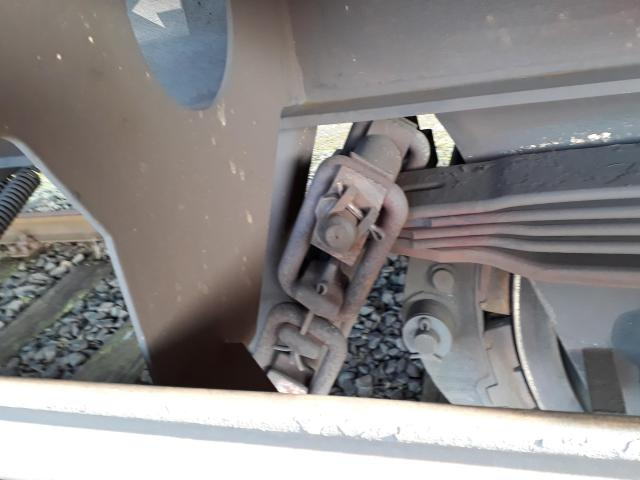blattfederww: (401, 169, 640, 276)
